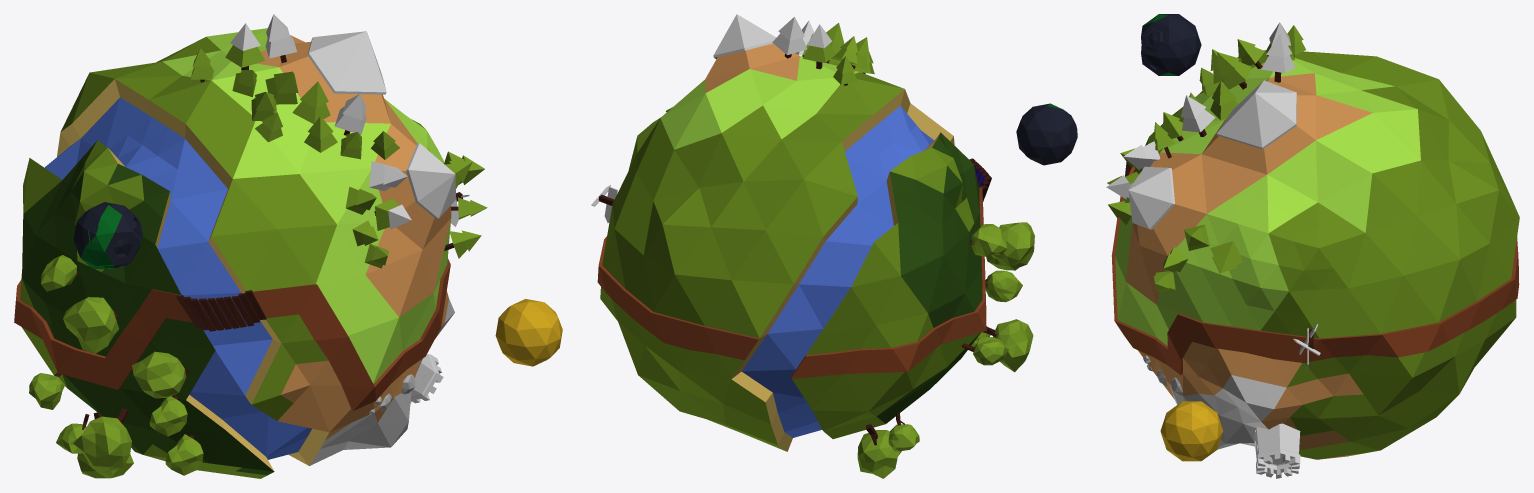
The model's file is planet.obj.
3 views of the same model, side by side, from view 1: azimuth 30°, elevation 25°; view 2: azimuth 150°, elevation 25°; view 3: azimuth 270°, elevation 25° (orthographic). The views are drawn at different scales.
Visible parts, largest first — view 1: Icosphere.012_Icosphere.028, Icosphere.014_Icosphere.030, Icosphere.001_Icosphere.013, Icosphere.018, Icosphere.016_Icosphere.032, Icosphere.013_Icosphere.029, Icosphere.003_Icosphere.016, Icosphere.015_Icosphere.031, Icosphere.011_Icosphere.027, Icosphere.004_Icosphere.020, Icosphere.000_Icosphere.012, Icosphere.005_Icosphere.021 (+1 smaller); view 2: Icosphere.012_Icosphere.028, Icosphere.018, Icosphere.014_Icosphere.030, Icosphere.001_Icosphere.013, Icosphere.015_Icosphere.031, Icosphere.016_Icosphere.032, Icosphere.011_Icosphere.027, Icosphere.003_Icosphere.016, Icosphere.005_Icosphere.021, Icosphere.013_Icosphere.029, Icosphere.000_Icosphere.012; view 3: Icosphere.012_Icosphere.028, Icosphere.016_Icosphere.032, Icosphere.013_Icosphere.029, Icosphere.003_Icosphere.016, Icosphere.015_Icosphere.031, Icosphere.001_Icosphere.013, Icosphere.005_Icosphere.021, Icosphere.004_Icosphere.020, Icosphere.000_Icosphere.012.
Boxes of the visible parts, bbox=[...] form: Icosphere.012_Icosphere.028: bbox=[20, 36, 425, 478]; Icosphere.014_Icosphere.030: bbox=[22, 141, 274, 475]; Icosphere.001_Icosphere.013: bbox=[29, 45, 487, 478]; Icosphere.018: bbox=[44, 97, 311, 459]; Icosphere.016_Icosphere.032: bbox=[162, 28, 451, 383]; Icosphere.013_Icosphere.029: bbox=[257, 35, 451, 440]; Icosphere.003_Icosphere.016: bbox=[230, 14, 469, 465]; Icosphere.015_Icosphere.031: bbox=[14, 258, 450, 410]; Icosphere.011_Icosphere.027: bbox=[57, 79, 329, 470]; Icosphere.004_Icosphere.020: bbox=[495, 299, 562, 366]; Icosphere.000_Icosphere.012: bbox=[54, 55, 462, 438]; Icosphere.005_Icosphere.021: bbox=[73, 202, 143, 268]; Icosphere.012_Icosphere.028: bbox=[600, 57, 979, 451]; Icosphere.018: bbox=[742, 106, 934, 437]; Icosphere.014_Icosphere.030: bbox=[877, 132, 982, 423]; Icosphere.001_Icosphere.013: bbox=[666, 23, 1034, 478]; Icosphere.015_Icosphere.031: bbox=[597, 187, 986, 378]; Icosphere.016_Icosphere.032: bbox=[660, 56, 859, 149]; Icosphere.011_Icosphere.027: bbox=[731, 89, 954, 451]; Icosphere.003_Icosphere.016: bbox=[591, 14, 832, 222]; Icosphere.005_Icosphere.021: bbox=[1016, 103, 1077, 165]; Icosphere.013_Icosphere.029: bbox=[705, 43, 799, 92]; Icosphere.000_Icosphere.012: bbox=[598, 54, 996, 445]; Icosphere.012_Icosphere.028: bbox=[1133, 50, 1519, 459]; Icosphere.016_Icosphere.032: bbox=[1115, 58, 1420, 345]; Icosphere.013_Icosphere.029: bbox=[1126, 73, 1372, 459]; Icosphere.003_Icosphere.016: bbox=[1106, 22, 1320, 478]; Icosphere.015_Icosphere.031: bbox=[1111, 166, 1519, 375]; Icosphere.001_Icosphere.013: bbox=[1107, 25, 1305, 291]; Icosphere.005_Icosphere.021: bbox=[1141, 14, 1201, 75]; Icosphere.004_Icosphere.020: bbox=[1160, 401, 1223, 461]; Icosphere.000_Icosphere.012: bbox=[1125, 55, 1313, 348].
Bounding box in the file's own units: 2.6 × 2.32 × 2.07.
